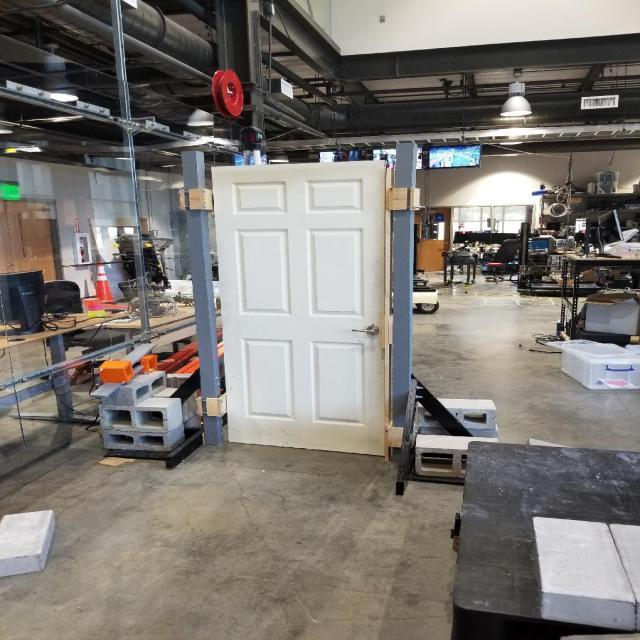door: (208, 157, 392, 458), (351, 321, 383, 338)
